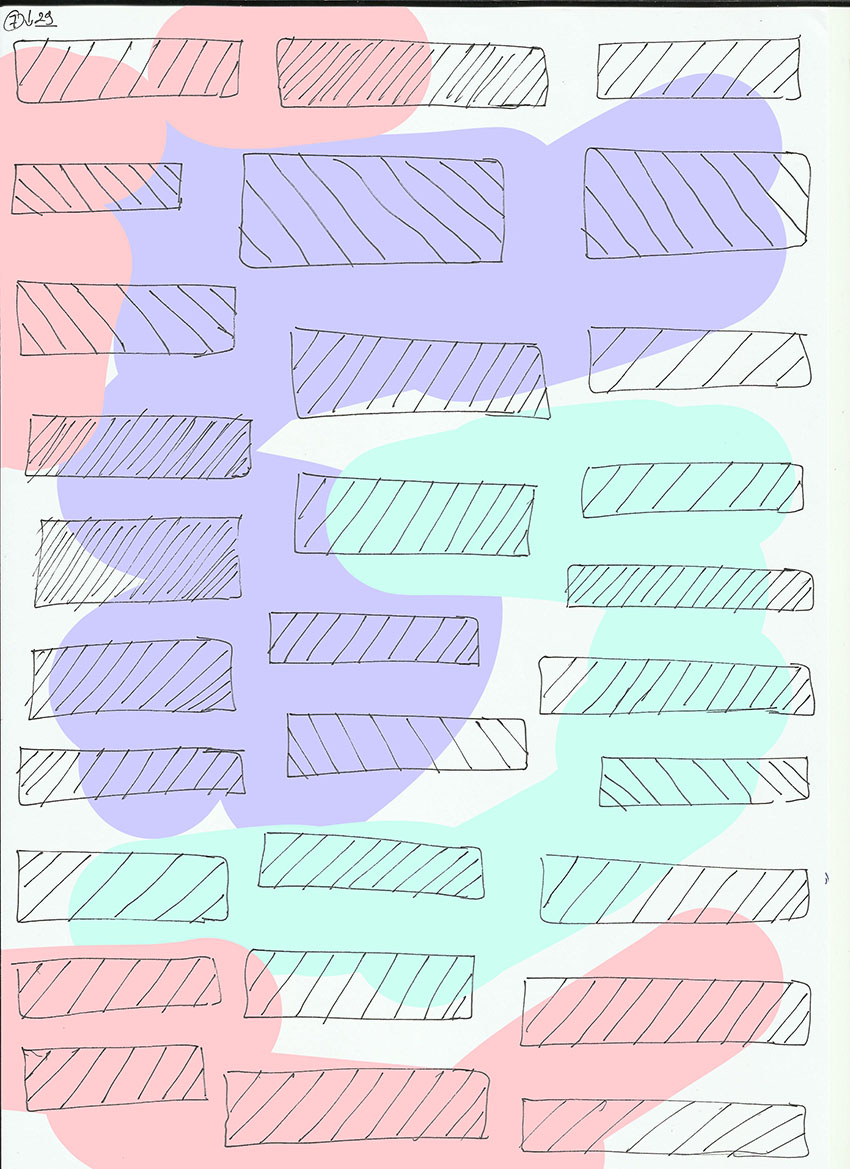frame: (233, 147, 510, 272), (576, 143, 813, 267), (285, 322, 555, 425), (518, 972, 816, 1052), (536, 847, 814, 931), (289, 468, 539, 559), (220, 1066, 494, 1149), (271, 34, 551, 113), (517, 1093, 811, 1165), (30, 513, 245, 610), (13, 275, 241, 362), (21, 634, 241, 723), (10, 844, 232, 930), (20, 406, 255, 487), (536, 653, 819, 719), (241, 946, 477, 1024), (281, 709, 531, 780), (582, 322, 814, 398), (257, 829, 487, 904), (12, 36, 246, 105), (14, 740, 250, 808), (8, 953, 225, 1022), (561, 560, 819, 618), (594, 33, 804, 104), (16, 1041, 212, 1116), (577, 459, 807, 519), (263, 608, 485, 669), (595, 752, 813, 813), (8, 160, 186, 219)
